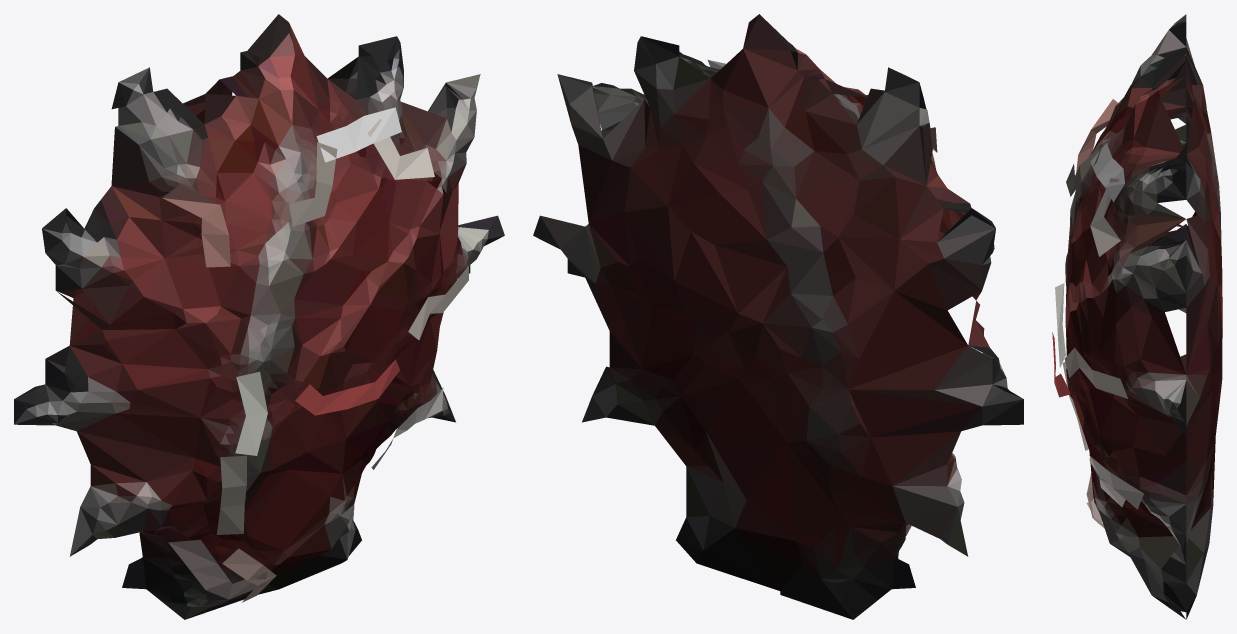
3 renders of one model, left to right at view 1: azimuth 30°, elevation 25°; view 2: azimuth 150°, elevation 25°; view 3: azimuth 270°, elevation 25°, orthographic. The views are drawn at different scales.
Visible parts, largest first — view 1: object 2, detail; view 2: object 2; view 3: object 2, detail.
Part boxes in pixels (x1=…): object 2: x1=14, y1=14, x2=504, y2=619; detail: x1=162, y1=107, x2=468, y2=602; object 2: x1=533, y1=14, x2=1023, y2=619; object 2: x1=1065, y1=14, x2=1222, y2=619; detail: x1=1052, y1=99, x2=1143, y2=528.
Size of the model in its own units: 141 by 160 by 45.05.
